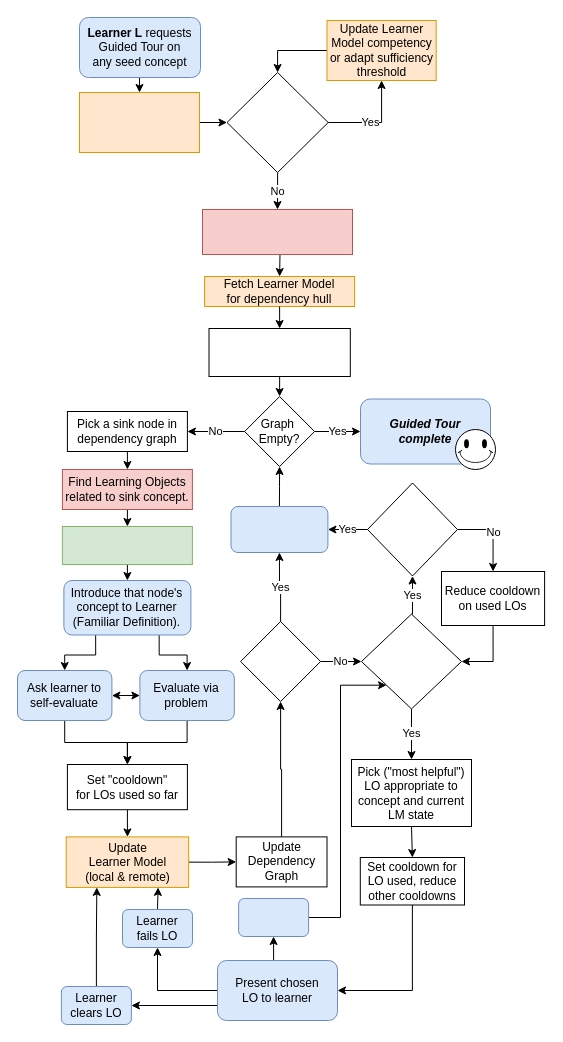
The diagram is 563 pixels wide and 1042 high, and some of its shapes have lost their labels. The box of each missing label's shape, as (x1, y1, x2, y2) in pixels:
Backend computes source's depencency hull, topologically sorted: (202, 208, 352, 254)
Communicate progress and next steps: (230, 506, 328, 552)
Consult logs which LOs are new to L: (61, 526, 192, 564)
Determine cutoff points, remove dangling dependencies.: (208, 328, 350, 376)
Fetch L's Learner Model for requested concept.: (78, 92, 200, 152)
Is L's competency sufficient?: (226, 72, 328, 172)
L's comp. sufficient?: (240, 620, 321, 702)
Learner skips LO: (238, 898, 309, 936)
LOs out of cooldown available?: (360, 613, 462, 709)
Other sink concepts available?: (366, 482, 458, 576)
